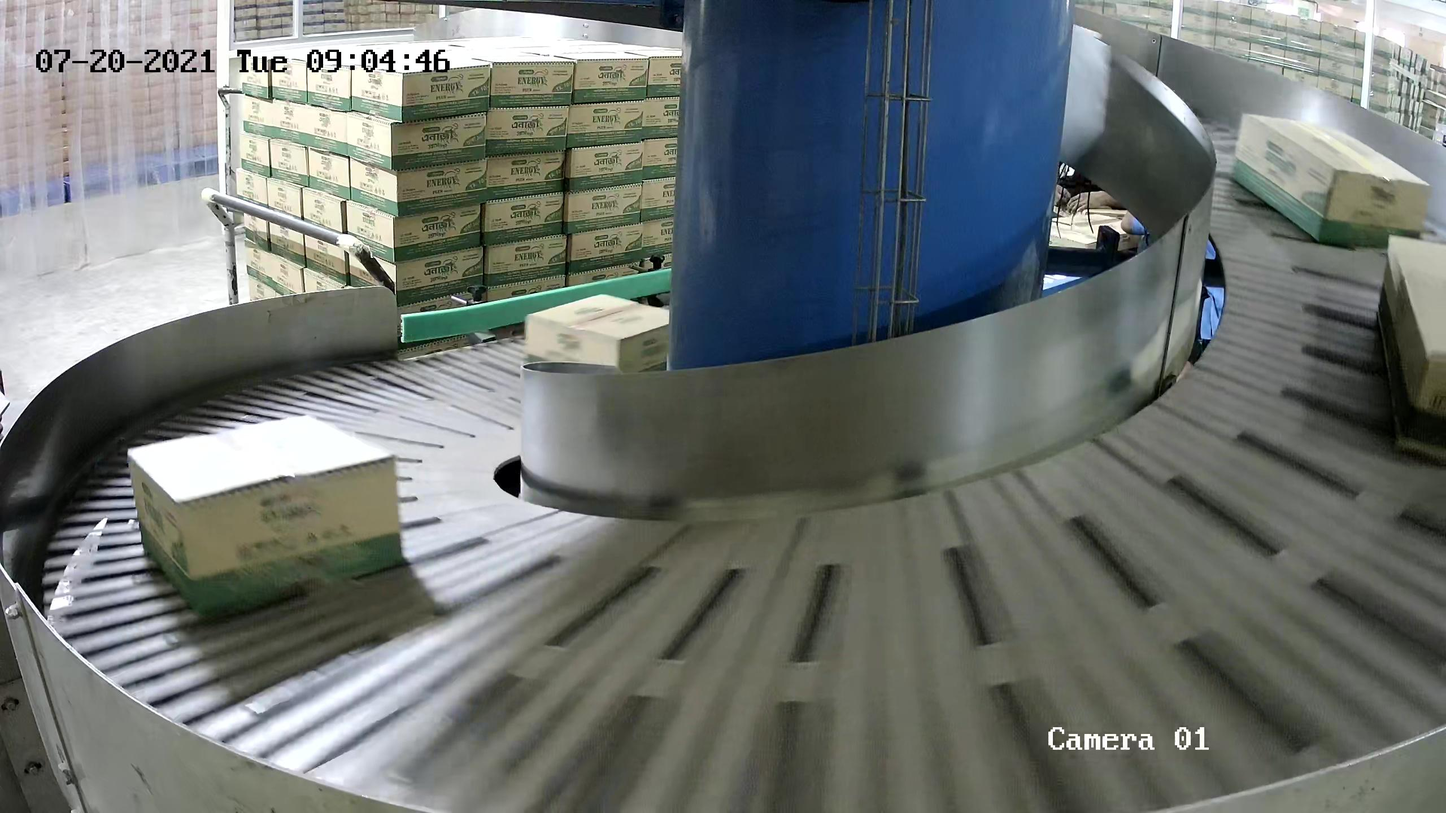Box: (123, 410, 407, 618), (1227, 109, 1432, 256), (521, 290, 671, 403), (1375, 232, 1446, 467)
